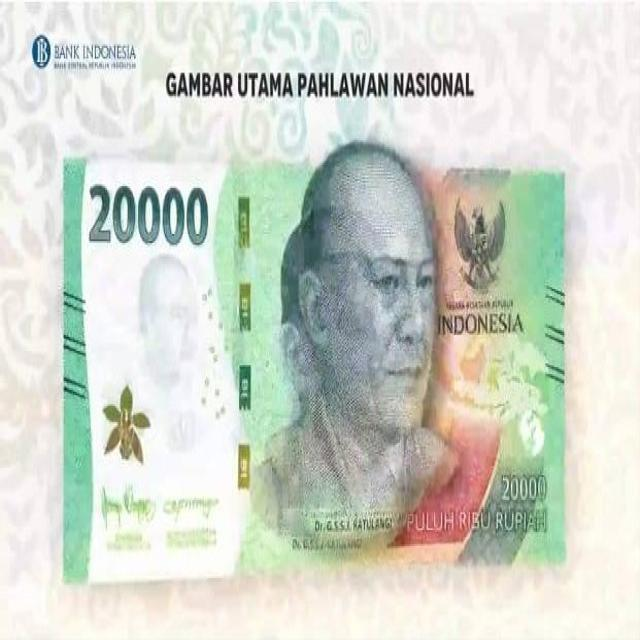dua puluh ribu rupiah: (61, 156, 566, 561)
